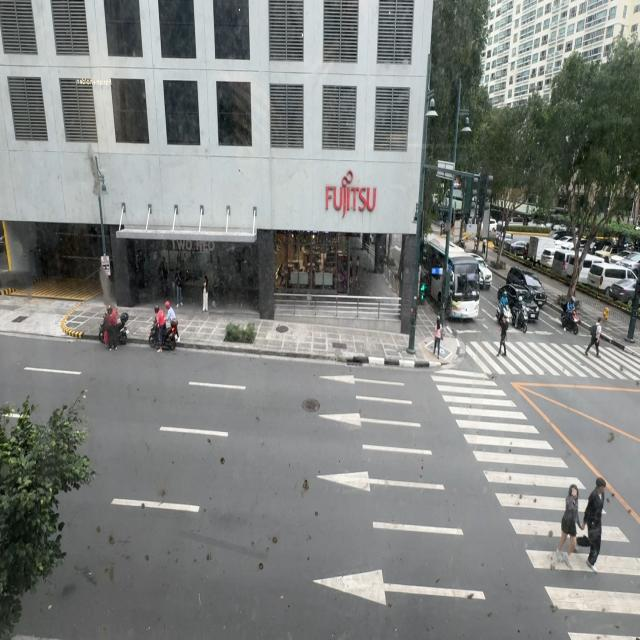crossing: (554, 473, 582, 566), (586, 472, 608, 572), (585, 318, 601, 359), (434, 316, 444, 358), (498, 320, 509, 357)
pedestrain: (158, 258, 168, 288), (202, 276, 209, 312)
